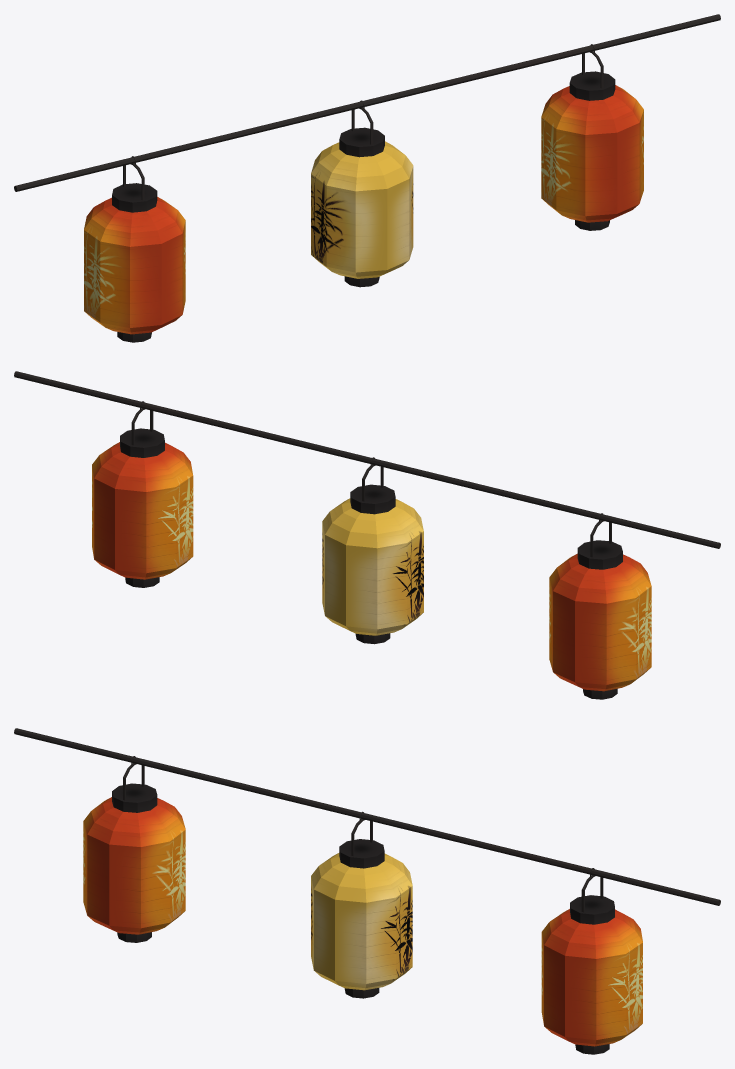
The model's file is japanese_lanterns_02.fbx.
The picture shows the model from 3 angles, top to bottom: view 1: azimuth 30°, elevation 25°; view 2: azimuth 150°, elevation 25°; view 3: azimuth 330°, elevation 25°; orthographic projection.
Visible parts, largest first — view 1: polySurface27; view 2: polySurface27; view 3: polySurface27.
Boxes of the visible parts, x1=… form: polySurface27: x1=14, y1=14, x2=720, y2=342; polySurface27: x1=14, y1=371, x2=720, y2=699; polySurface27: x1=14, y1=728, x2=720, y2=1054.
Size of the model in its own units: 6.25 by 1.52 by 0.8042.
